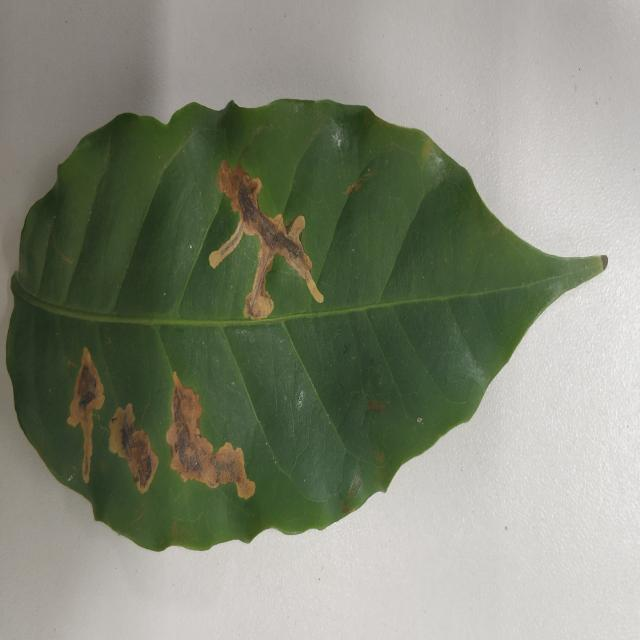Plaga-Minador: (7, 99, 610, 556)
